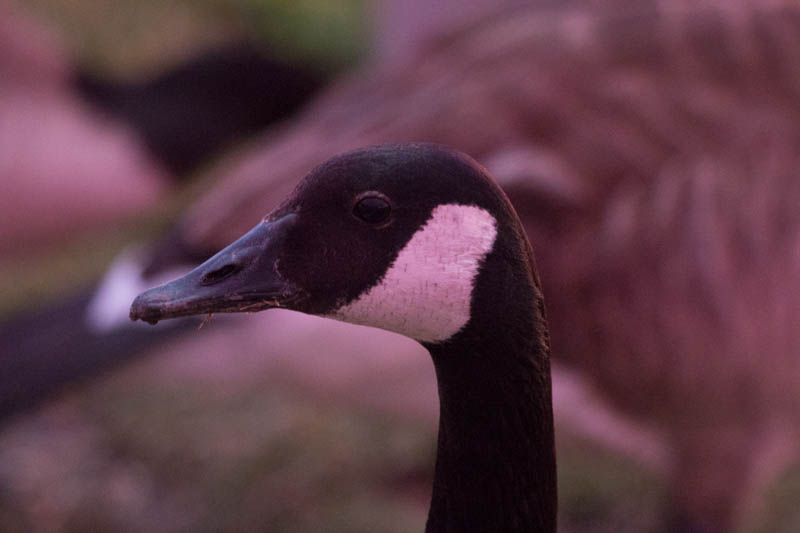goose-head: (129, 140, 547, 345)
